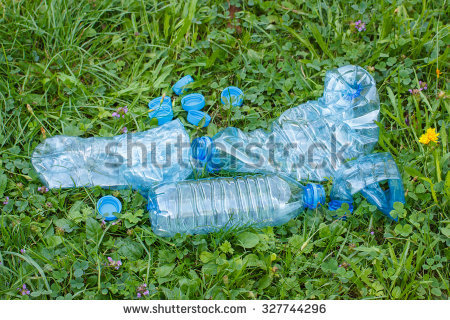bottle: (277, 66, 380, 160), (151, 182, 319, 230), (192, 130, 352, 180), (31, 137, 195, 181), (330, 154, 402, 222)
